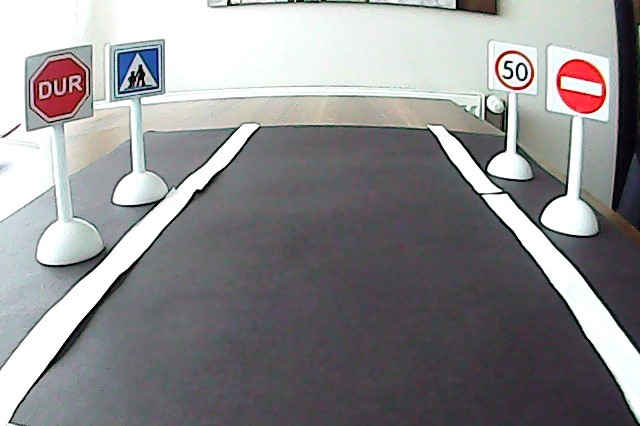do not enter: (553, 54, 608, 118)
school crossing: (111, 43, 166, 97)
speed limit 50: (492, 46, 539, 93)
stop sign: (28, 51, 94, 125)
